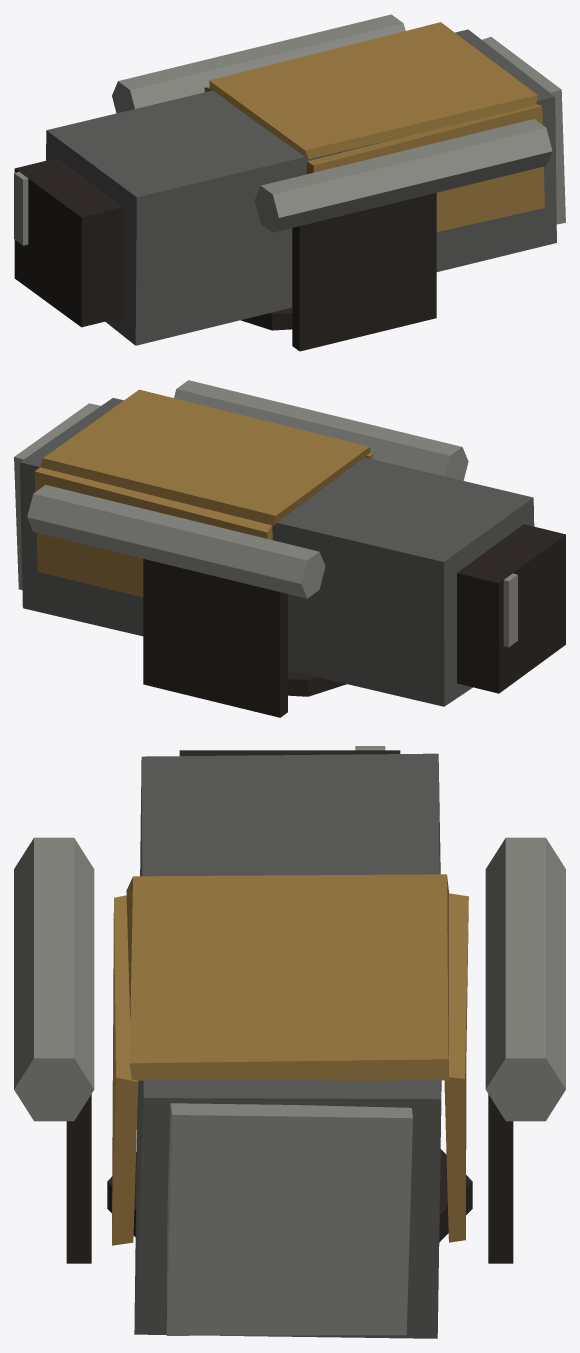
File: wrec_cannon.glb
The picture shows the model from 3 angles, top to bottom: view 1: azimuth 30°, elevation 25°; view 2: azimuth 150°, elevation 25°; view 3: azimuth 270°, elevation 25°; orthographic projection. The views are drawn at different scales.
Parts seen in each view (by area): view 1: wrec_cannon; view 2: wrec_cannon; view 3: wrec_cannon.
Part boxes in pixels (x1,y1,x2,y2): wrec_cannon: (14,14,565,351); wrec_cannon: (14,380,565,717); wrec_cannon: (14,746,565,1338).
Size of the model in its own units: 0.9235 by 0.331 by 0.55.
